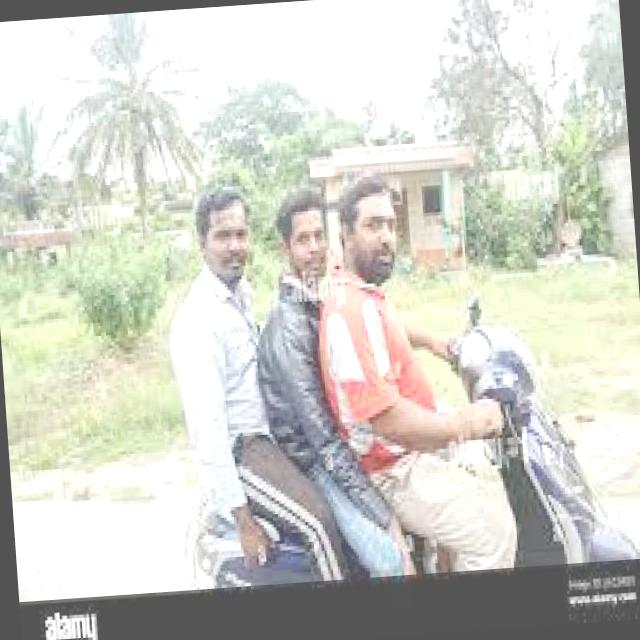motorcycle: (146, 272, 640, 588)
person: (302, 168, 486, 590), (151, 175, 307, 558), (242, 181, 356, 482)
rider_region: (139, 158, 640, 593)
